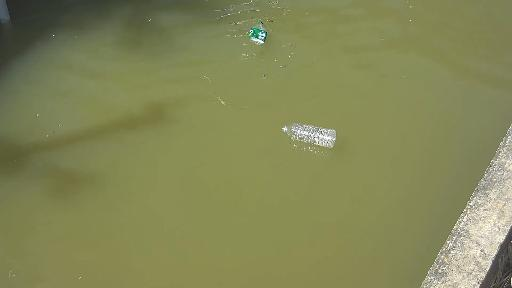plastic: (278, 114, 339, 150), (247, 14, 277, 54)
